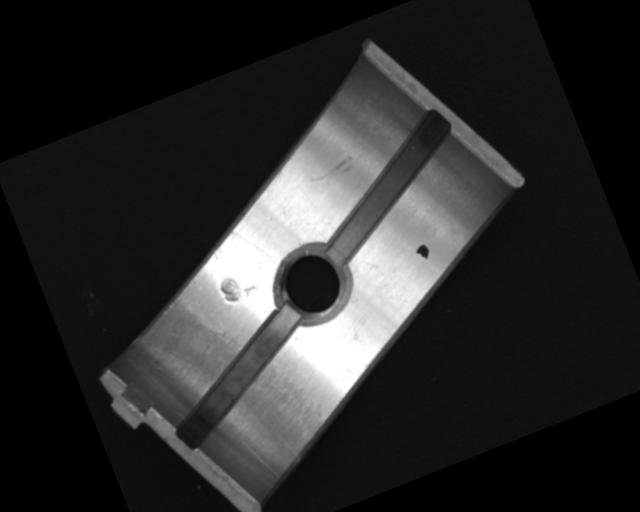blot: (413, 242, 432, 262)
bruise: (215, 266, 261, 307)
gap: (296, 107, 480, 267), (150, 304, 328, 450)
hole: (264, 236, 358, 334)
nick: (304, 153, 357, 188)
